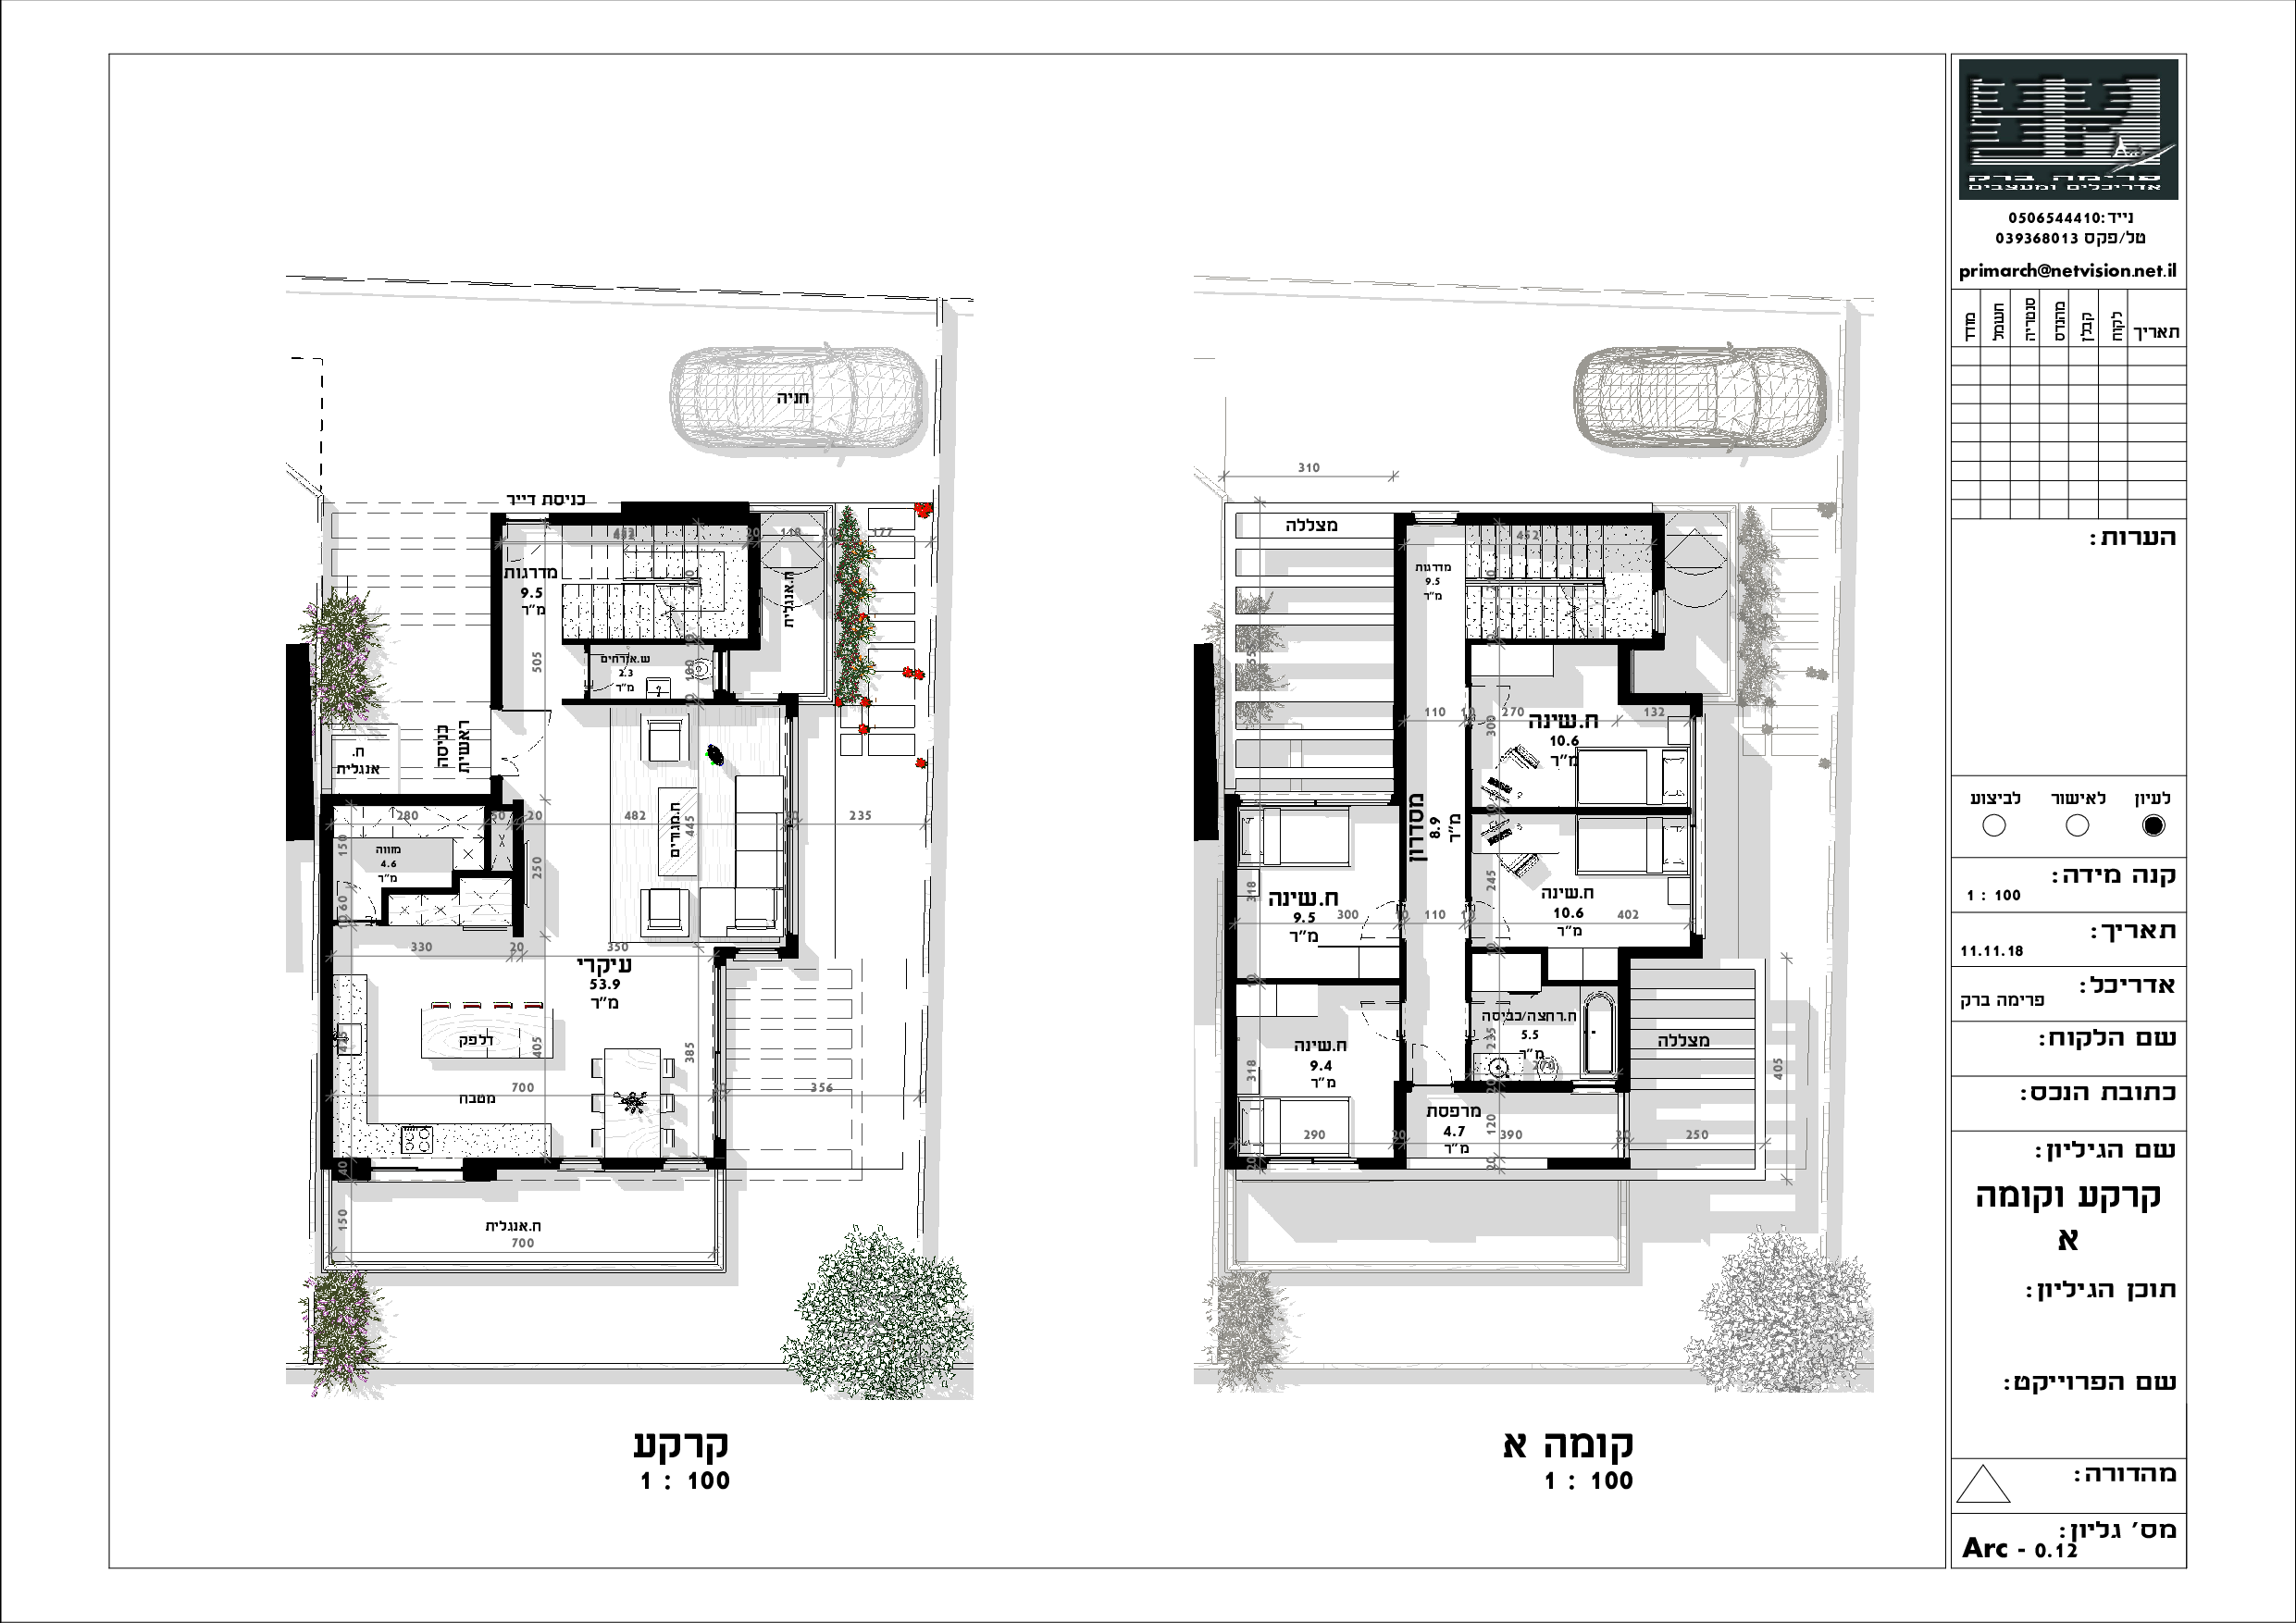door: (502, 703, 559, 782), (1476, 899, 1518, 943), (1409, 1035, 1458, 1071), (1354, 903, 1391, 947), (1356, 998, 1391, 1042)
rd: (1932, 35, 2236, 1604)
wall: (1223, 796, 1238, 1172), (1391, 513, 1409, 797), (1618, 636, 1688, 704), (545, 508, 762, 527), (321, 796, 332, 1165), (488, 513, 508, 708), (464, 1154, 566, 1186), (290, 643, 302, 841), (1467, 511, 1655, 523), (1614, 947, 1630, 1091), (1616, 934, 1708, 957), (1465, 806, 1690, 813), (321, 796, 499, 804), (318, 1154, 372, 1182), (1242, 977, 1404, 985), (1456, 1080, 1567, 1093), (750, 513, 759, 648), (1544, 1156, 1630, 1168), (1467, 639, 1664, 645), (562, 636, 745, 641), (515, 803, 522, 936), (1395, 1082, 1405, 1154), (1463, 945, 1548, 954), (706, 1136, 727, 1168), (321, 1156, 367, 1170), (466, 1159, 557, 1166), (1361, 1154, 1407, 1168), (562, 699, 733, 703), (1541, 978, 1625, 985), (485, 796, 492, 876), (780, 936, 803, 961), (776, 692, 799, 717), (1400, 801, 1405, 905), (1465, 729, 1472, 804), (1679, 694, 1702, 717), (606, 1159, 657, 1168), (713, 947, 734, 964), (453, 871, 520, 876), (1465, 947, 1472, 994), (492, 776, 501, 810), (381, 889, 458, 892), (1465, 641, 1470, 687), (381, 891, 386, 922)
window: (369, 1151, 467, 1187), (1644, 587, 1676, 632), (710, 648, 733, 694), (662, 1154, 706, 1173), (559, 1154, 603, 1173)
